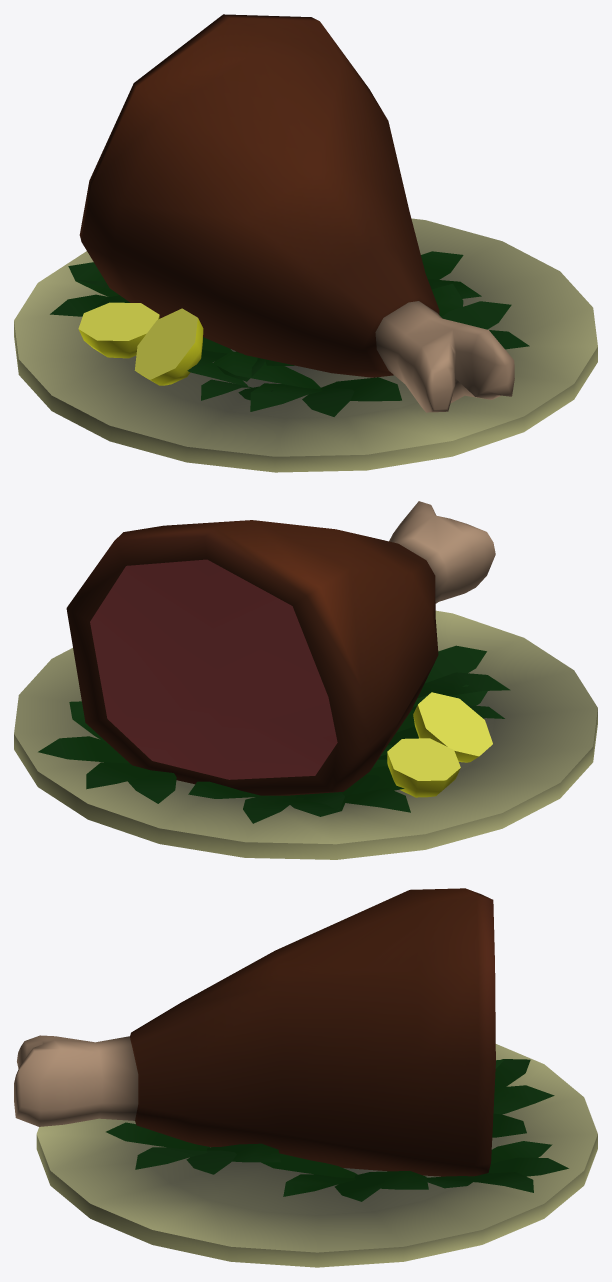
File: Ham.fbx
The picture shows the model from 3 angles, top to bottom: view 1: azimuth 30°, elevation 25°; view 2: azimuth 150°, elevation 25°; view 3: azimuth 270°, elevation 25°; orthographic projection. The views are drawn at different scales.
Visible parts, largest first — view 1: LegoHam1; view 2: LegoHam1; view 3: LegoHam1.
Part boxes in pixels (left/top/right/bottom): LegoHam1: left=14, top=14, right=597, bottom=472; LegoHam1: left=14, top=501, right=597, bottom=859; LegoHam1: left=14, top=888, right=597, bottom=1267.
Size of the model in its own units: 562 by 296 by 585.
